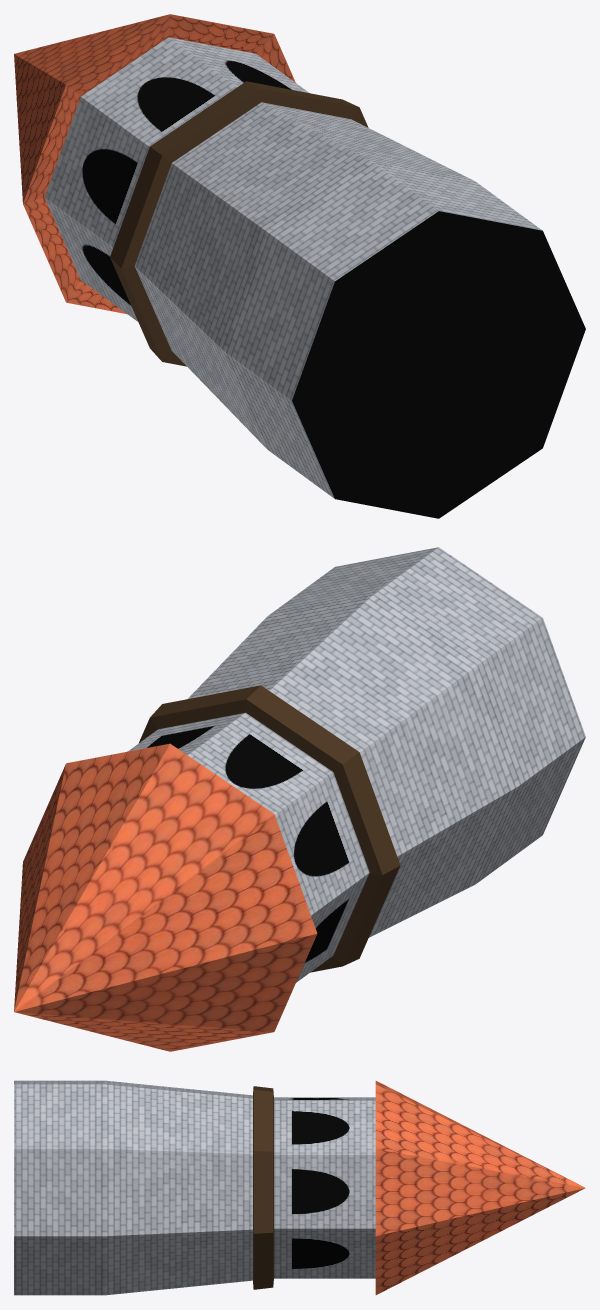
The model's file is wieza_podstawowa1.fbx.
3 renders of one model, top to bottom at view 1: azimuth 30°, elevation 25°; view 2: azimuth 150°, elevation 25°; view 3: azimuth 270°, elevation 25°, orthographic. The views are drawn at different scales.
Parts seen in each view (by area): view 1: Cylinder.002; view 2: Cylinder.002; view 3: Cylinder.002.
Part boxes in pixels (left/top/right/bottom): Cylinder.002: left=14, top=14, right=585, bottom=518; Cylinder.002: left=14, top=547, right=585, bottom=1051; Cylinder.002: left=14, top=1080, right=585, bottom=1295.
Size of the model in its own units: 501 by 200 by 200.
1 material, 1 textured.
